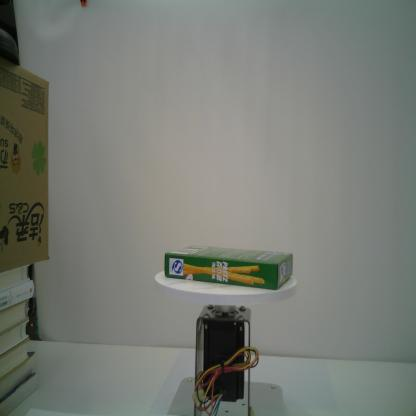Dessert: (164, 244, 293, 290)
